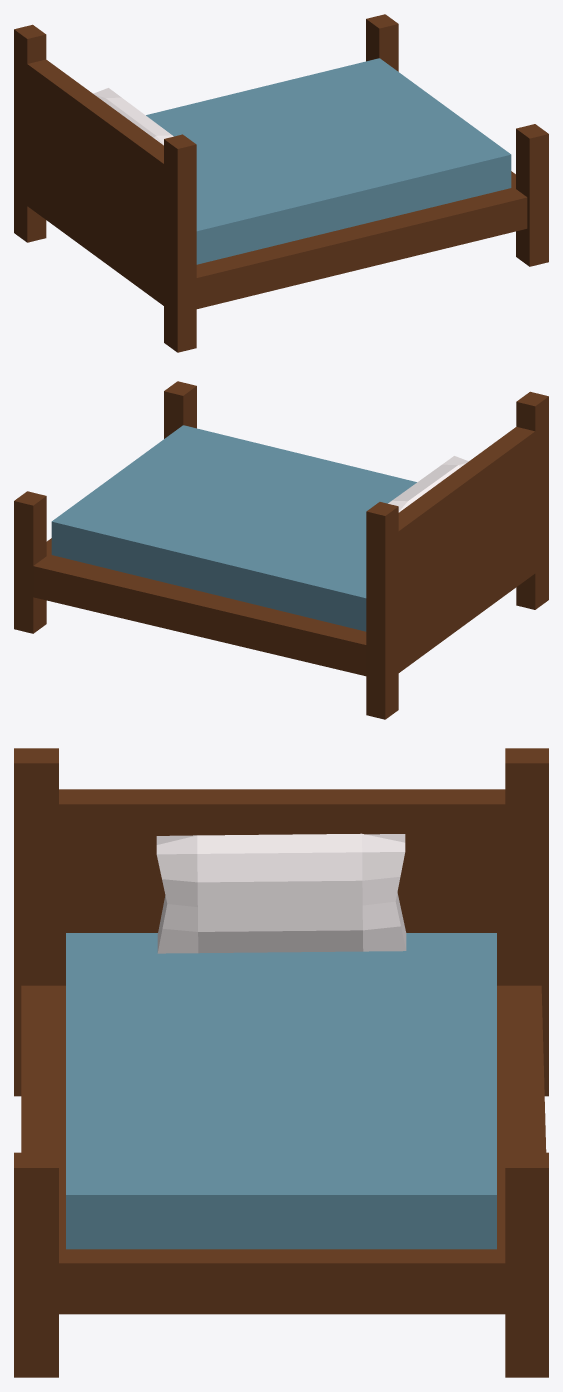
File: bed_3d_asset.fbx
3 renders of one model, top to bottom at view 1: azimuth 30°, elevation 25°; view 2: azimuth 150°, elevation 25°; view 3: azimuth 270°, elevation 25°, orthographic. The views are drawn at different scales.
Visible parts, largest first — view 1: Bed; view 2: Bed; view 3: Bed.
Part boxes in pixels (left/top/right/bottom): Bed: left=14, top=14, right=548, bottom=352; Bed: left=14, top=381, right=548, bottom=719; Bed: left=14, top=748, right=548, bottom=1377.
Bounding box in the file's own units: 735 × 385 × 561.
